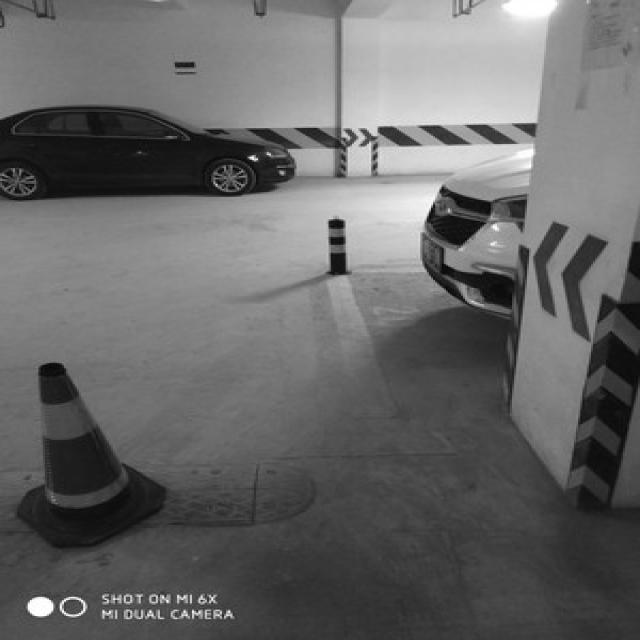car: (0, 101, 299, 195), (420, 146, 529, 316)
reflective_cone: (15, 362, 164, 542)
warning_column: (322, 211, 352, 274)
